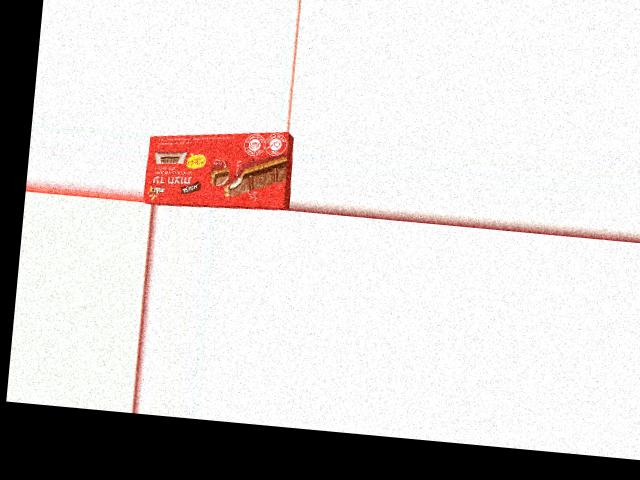chocolate: (142, 127, 294, 211)
